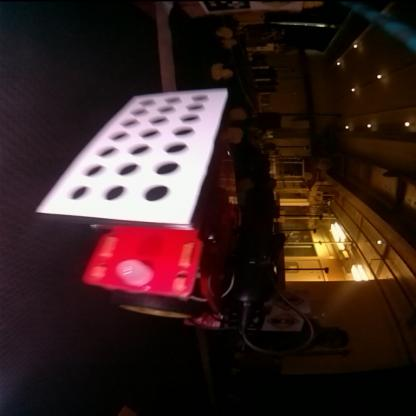Duckie: (212, 63, 234, 79), (217, 26, 233, 37), (223, 38, 237, 48)
Duckiebot: (35, 90, 247, 331)
Signal sign: (266, 312, 303, 330)
